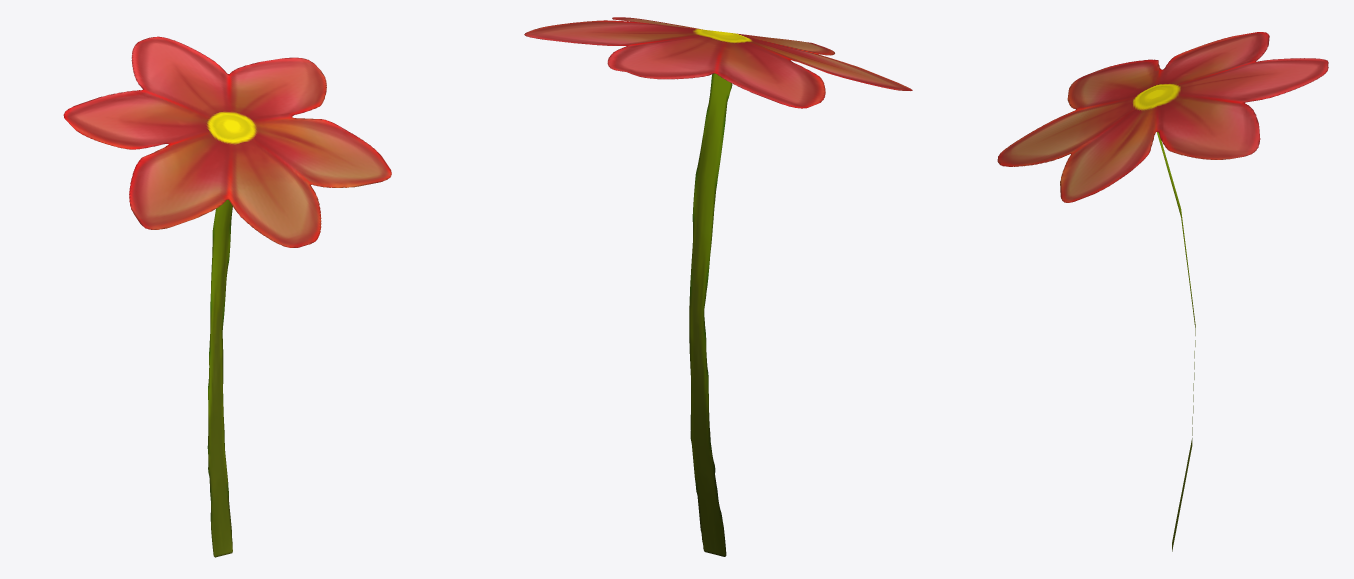
File: 30_Flor.fbx
The picture shows the model from 3 angles, left to right: view 1: azimuth 30°, elevation 25°; view 2: azimuth 150°, elevation 25°; view 3: azimuth 270°, elevation 25°; orthographic projection. The views are drawn at different scales.
Parts seen in each view (by area): view 1: 30_Flor; view 2: 30_Flor; view 3: 30_Flor.
Part boxes in pixels (bbox=[...]): 30_Flor: bbox=[63, 36, 391, 557]; 30_Flor: bbox=[524, 17, 912, 556]; 30_Flor: bbox=[997, 32, 1328, 551].
Bounding box in the file's own units: 19.03 × 32.78 × 20.93.
